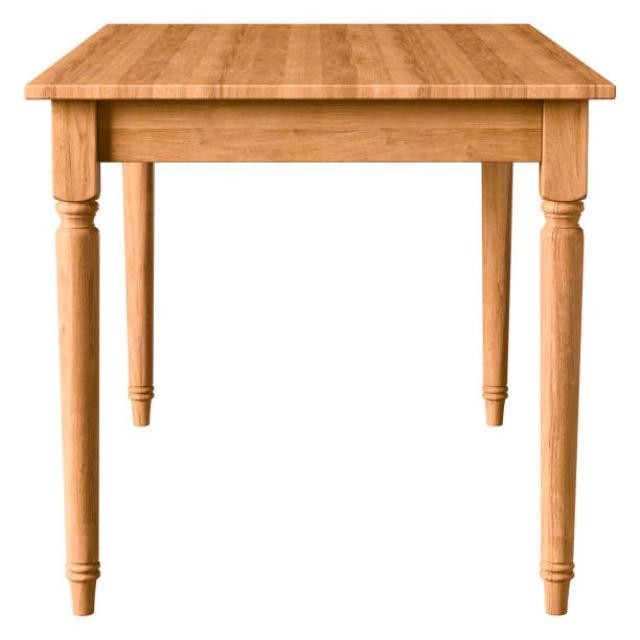table: (23, 21, 616, 618)
